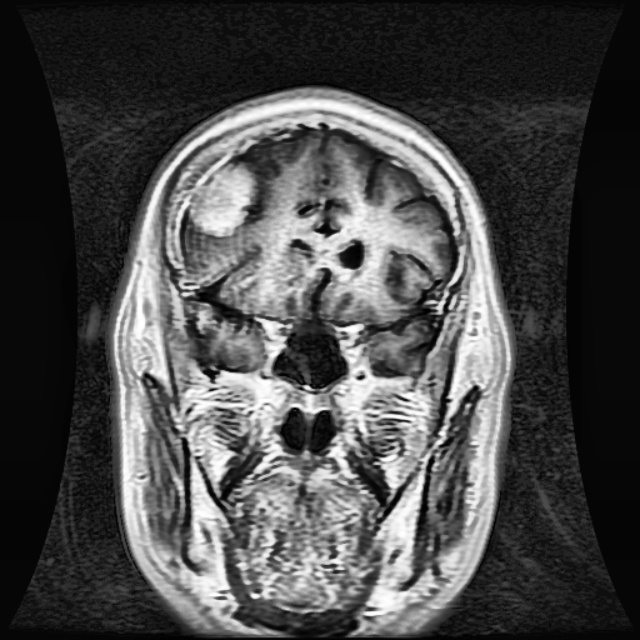Glioma: (193, 163, 253, 235)
